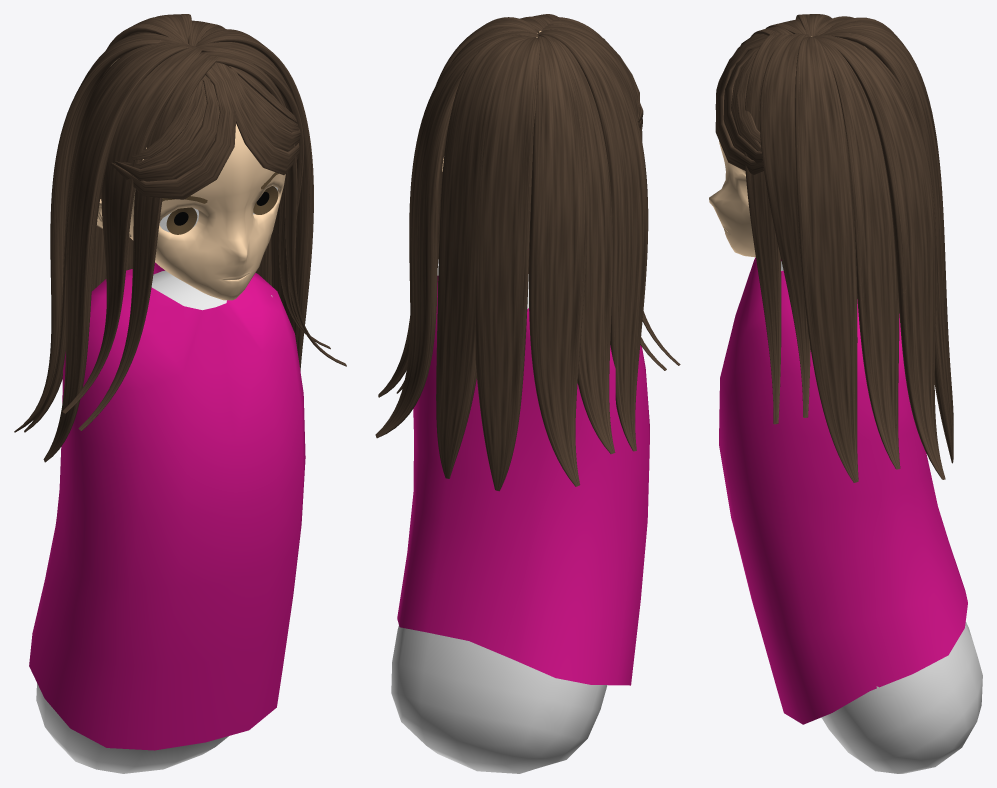
The model's file is Main character.fbx.
3 renders of one model, left to right at view 1: azimuth 30°, elevation 25°; view 2: azimuth 150°, elevation 25°; view 3: azimuth 270°, elevation 25°, orthographic. The views are drawn at different scales.
Parts seen in each view (by area): view 1: T-shirt, Hair.009, Head with ears and eyes, body; view 2: Hair.009, T-shirt, body; view 3: Hair.009, T-shirt, body, Head with ears and eyes.
Boxes of the visible parts, x1=… form: T-shirt: x1=29, y1=262, x2=305, y2=750; Hair.009: x1=14, y1=14, x2=346, y2=462; Head with ears and eyes: x1=96, y1=58, x2=285, y2=300; body: x1=36, y1=270, x2=272, y2=773; Hair.009: x1=375, y1=14, x2=680, y2=491; T-shirt: x1=397, y1=276, x2=649, y2=685; body: x1=391, y1=274, x2=607, y2=773; Hair.009: x1=715, y1=14, x2=953, y2=482; T-shirt: x1=719, y1=257, x2=967, y2=724; body: x1=781, y1=261, x2=982, y2=773; Head with ears and eyes: x1=709, y1=36, x2=811, y2=257.
Size of the model in its own units: 3.21 by 8.72 by 2.96.
7 materials, 1 textured.
